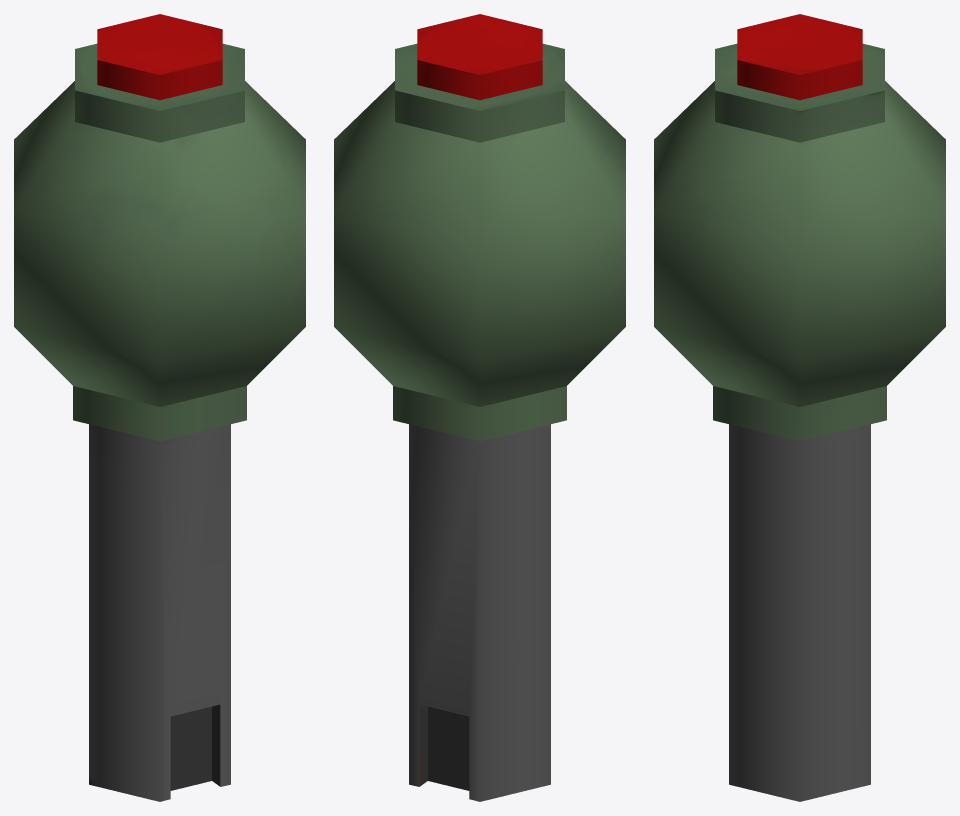
The model's file is Launcher Grenade ammo pick-up.FBX.
3 renders of one model, left to right at view 1: azimuth 30°, elevation 25°; view 2: azimuth 150°, elevation 25°; view 3: azimuth 270°, elevation 25°, orthographic.
Visible parts, largest first — view 1: Launcher Grenade ammo; view 2: Launcher Grenade ammo; view 3: Launcher Grenade ammo.
Part boxes in pixels (x1,y1,x2,y2): Launcher Grenade ammo: [14, 14, 305, 801]; Launcher Grenade ammo: [334, 14, 625, 801]; Launcher Grenade ammo: [654, 14, 945, 801].
Size of the model in its own units: 1.8 by 4.27 by 1.56.
